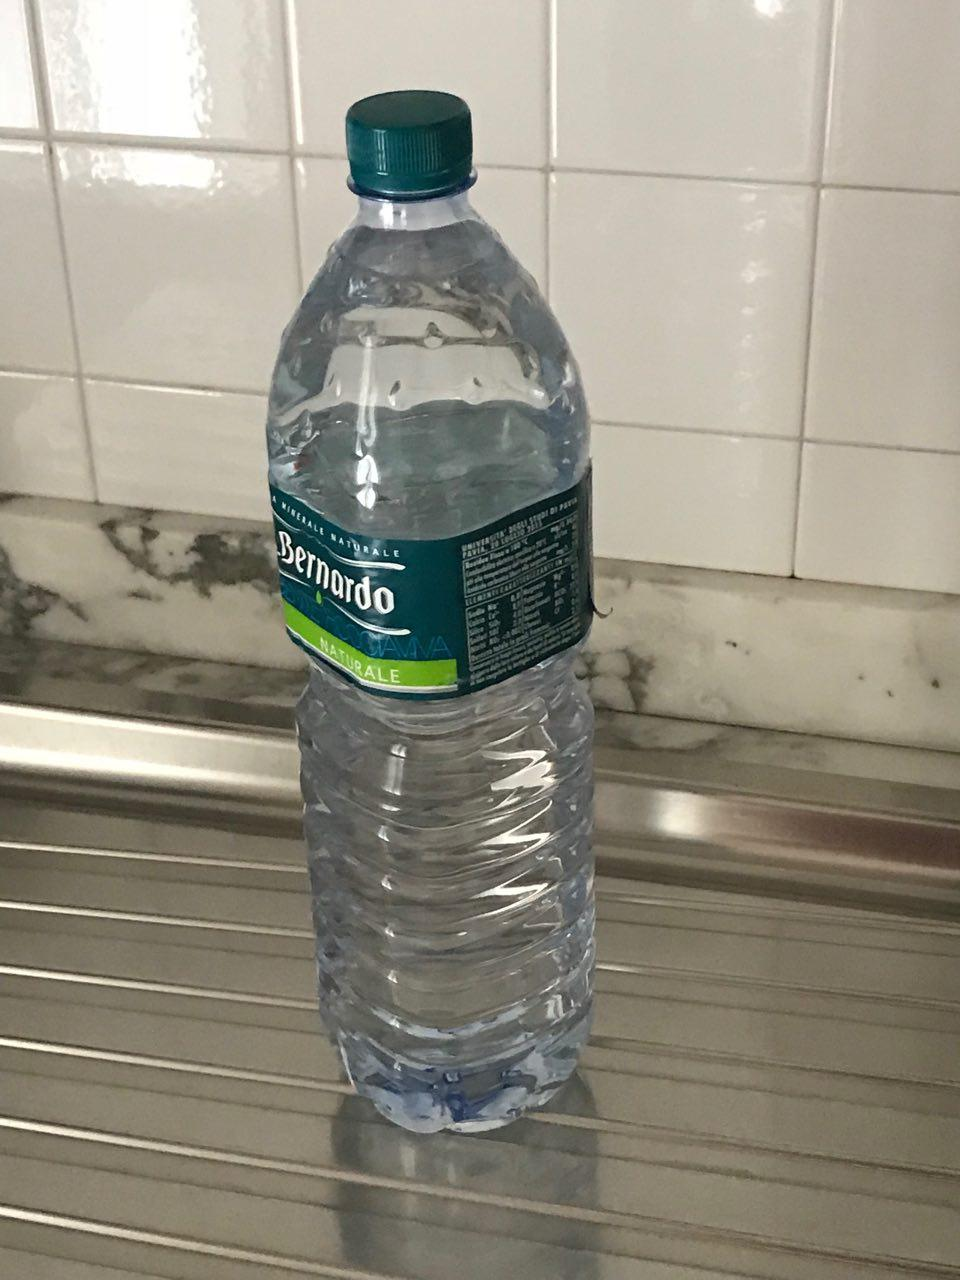san_bernardo: (267, 90, 599, 1132)
